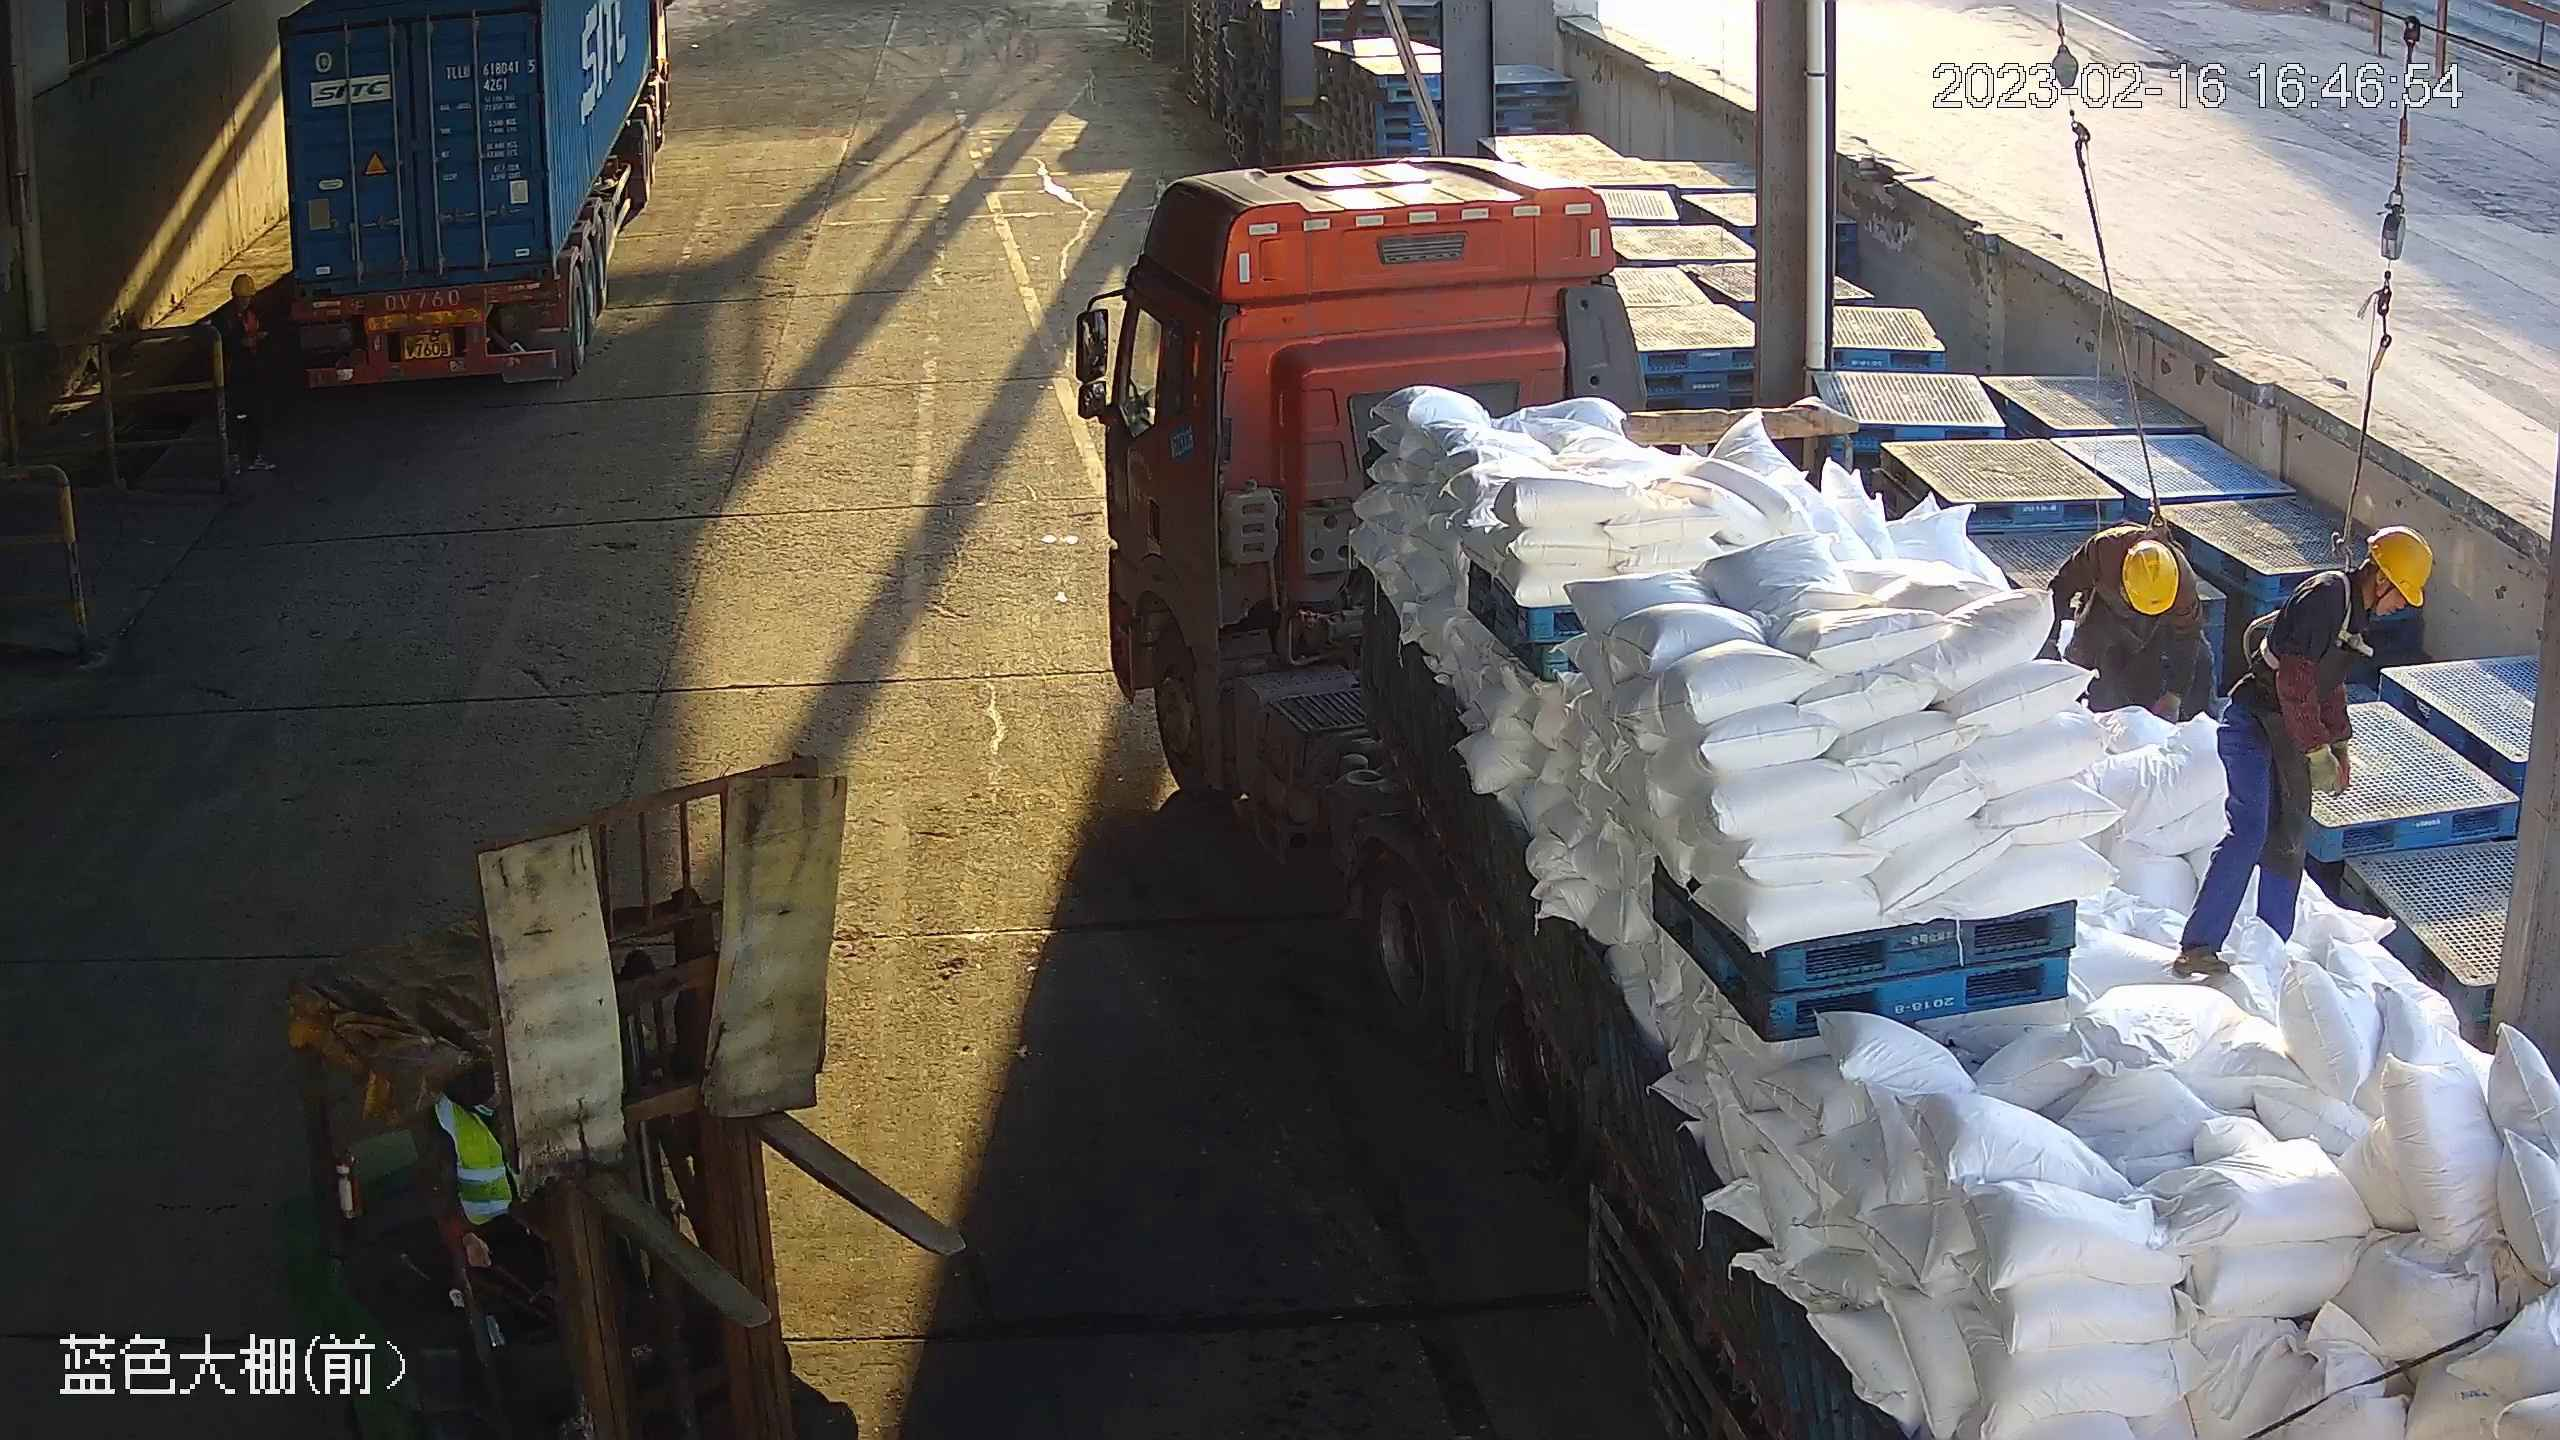head: (2271, 528, 2432, 678), (2088, 527, 2198, 644), (210, 274, 276, 347)
helmet: (2367, 523, 2430, 611), (2118, 539, 2178, 617), (230, 272, 259, 294)
people: (2169, 525, 2430, 996), (2047, 519, 2220, 730), (213, 272, 276, 484)
truck: (1067, 149, 2560, 1440), (273, 1, 671, 398)
